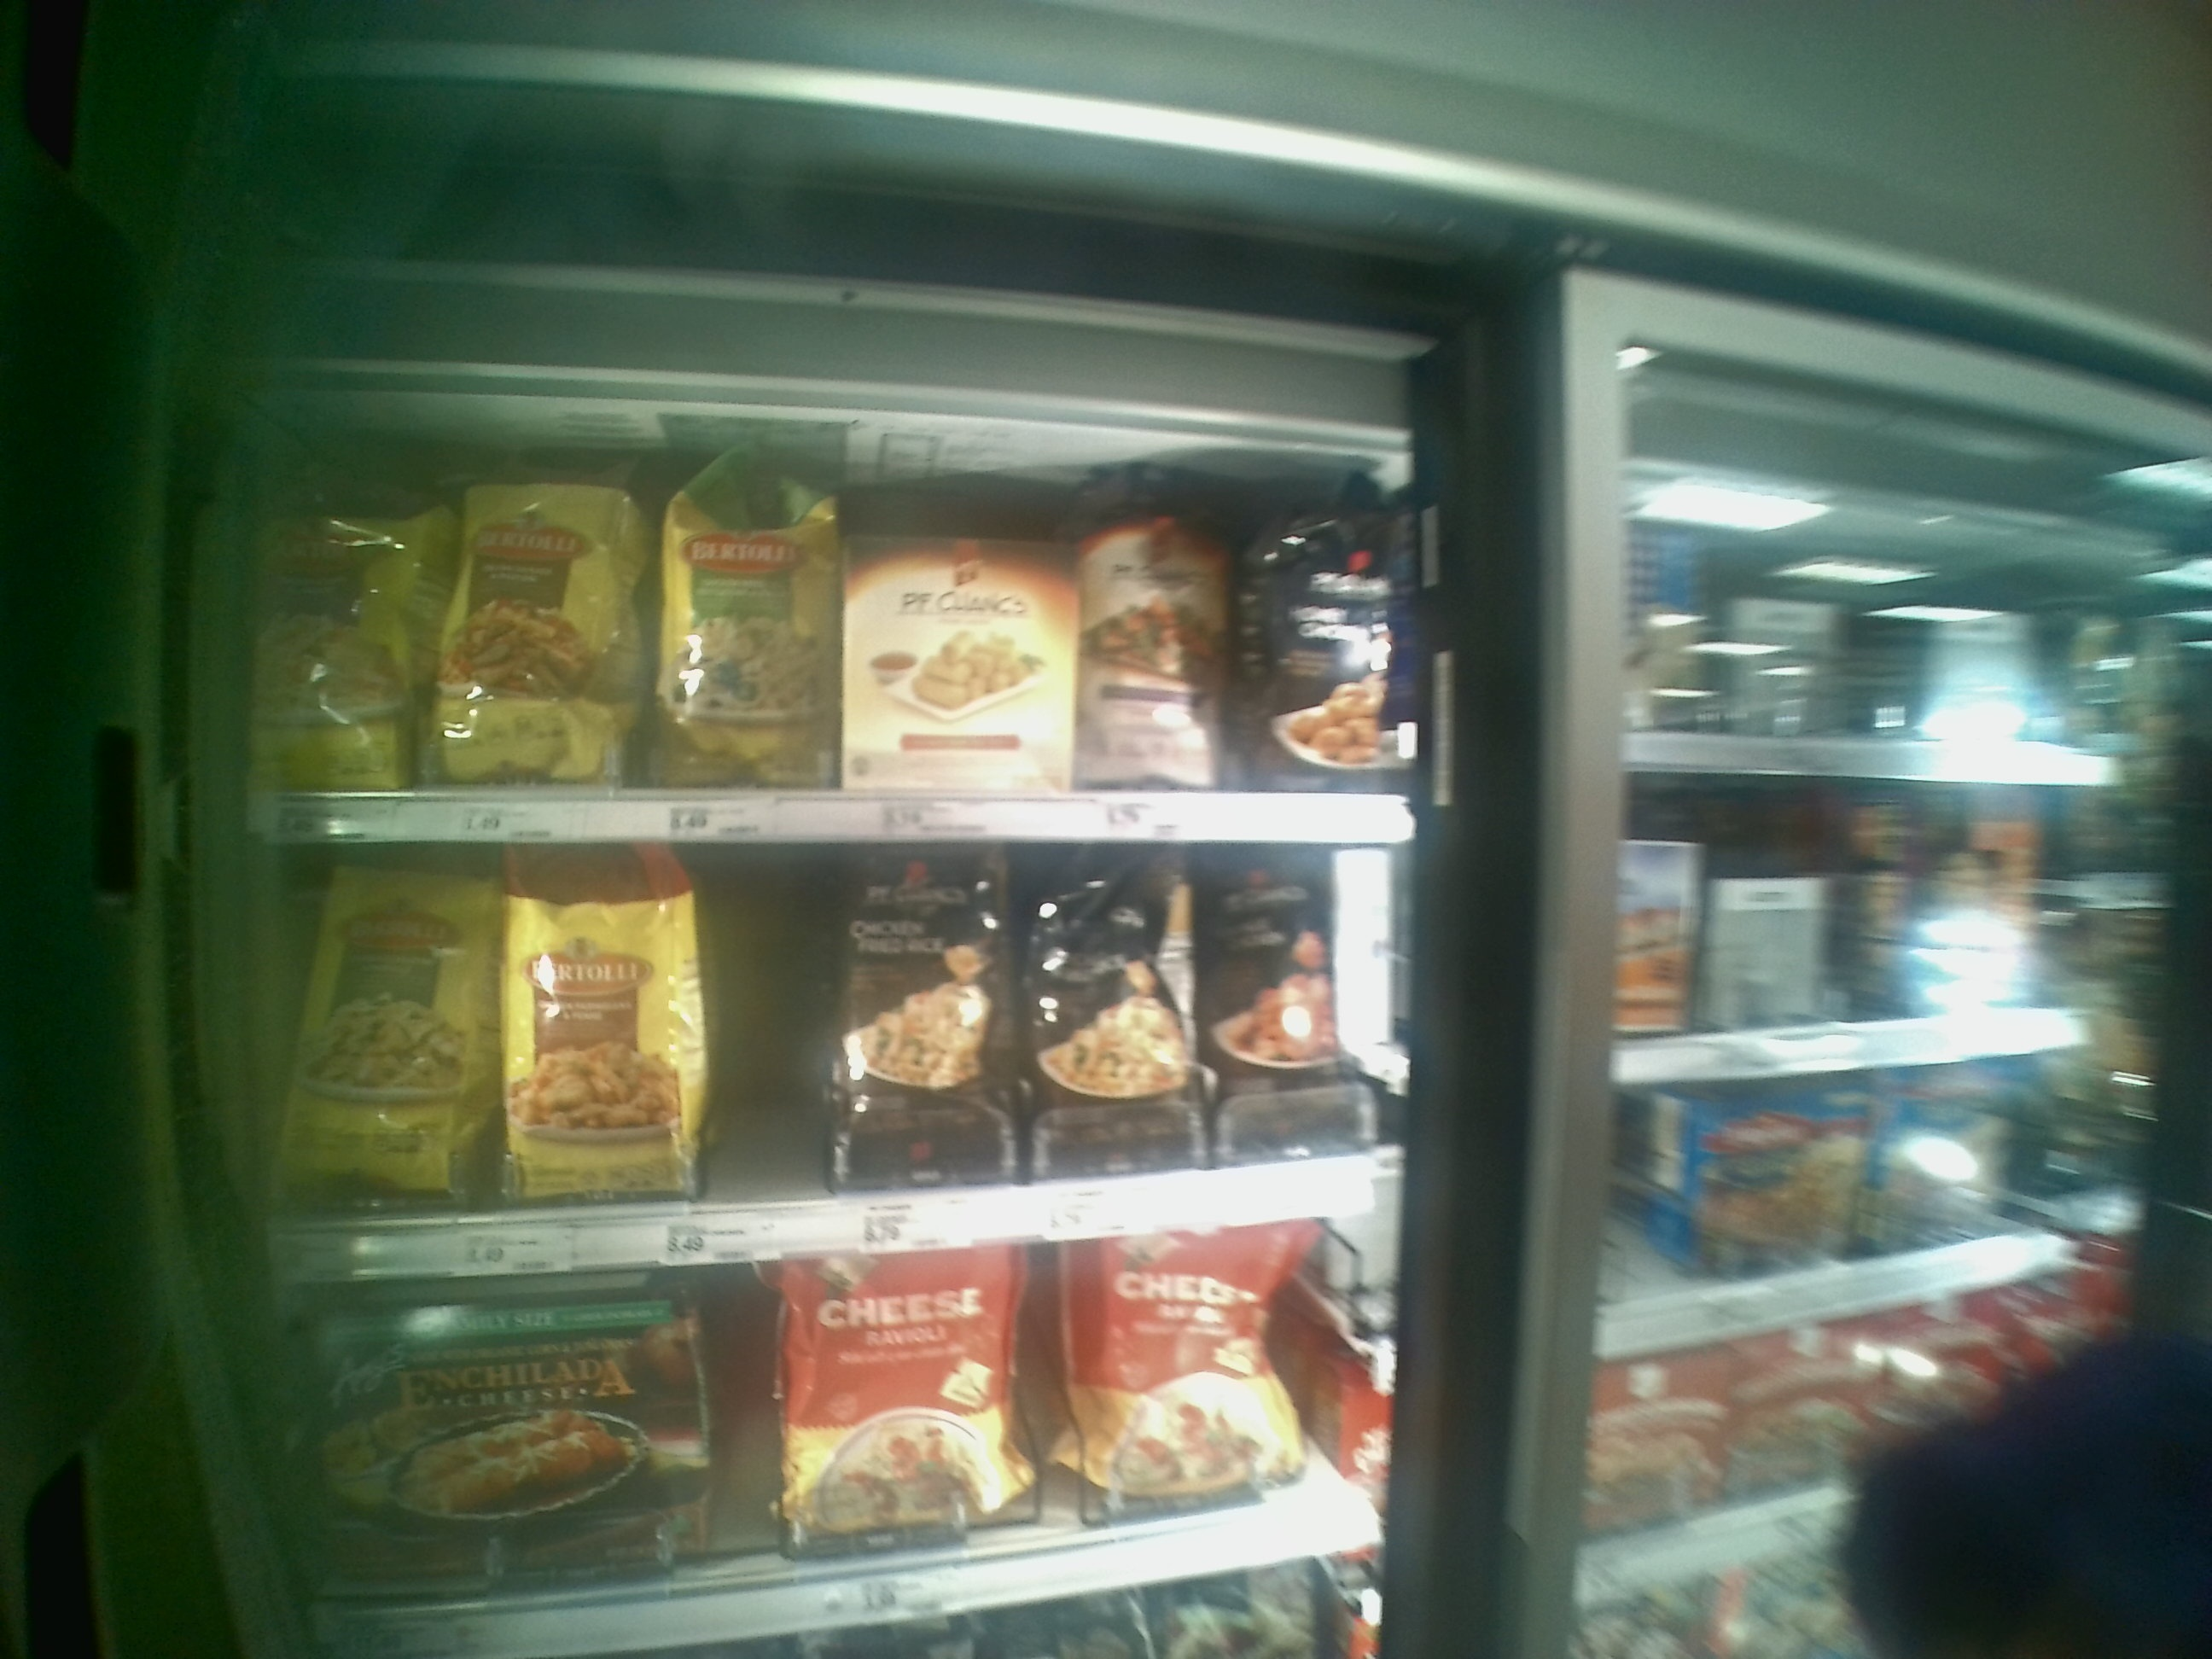shelf: (256, 812, 1411, 1236), (256, 404, 1404, 816)
